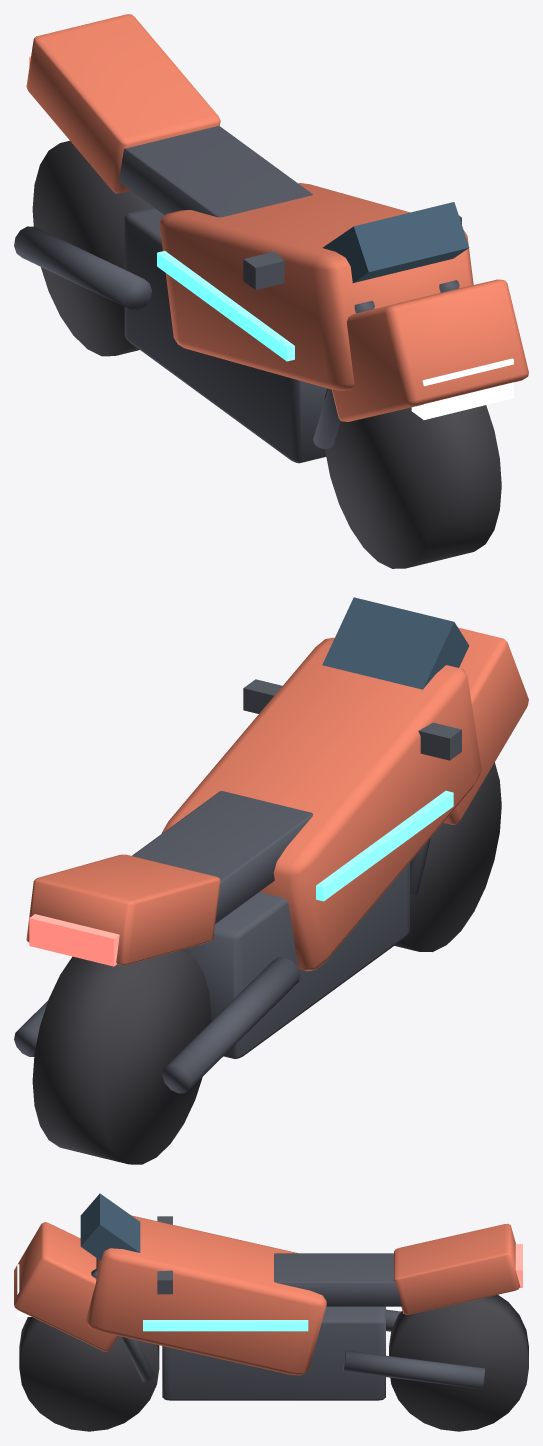
The model's file is superbike.glb.
The picture shows the model from 3 angles, top to bottom: view 1: azimuth 30°, elevation 25°; view 2: azimuth 150°, elevation 25°; view 3: azimuth 270°, elevation 25°; orthographic projection. The views are drawn at different scales.
Parts seen in each view (by area): view 1: FairingMain, Tire_-0.95, TailCowling, AeroNose, EngineBlock, Tire_0.95, Seat, Windscreen, ExhaustL, SideGlowL, Headlight, Handlebar (+1 smaller); view 2: FairingMain, Tire_0.95, EngineBlock, TailCowling, Seat, Tire_-0.95, Windscreen, AeroNose, ExhaustL, SideGlowL, Taillight, Handlebar (+1 smaller); view 3: FairingMain, Tire_0.95, EngineBlock, Tire_-0.95, TailCowling, AeroNose, Seat, ExhaustR, Windscreen, SideGlowR, ForkR, Handlebar (+1 smaller).
Part boxes in pixels (<box>): FairingMain: <box>159,183,473,390</box>; Tire_-0.95: <box>324,388,501,568</box>; TailCowling: <box>26,14,220,193</box>; AeroNose: <box>332,279,528,421</box>; EngineBlock: <box>124,207,327,463</box>; Tire_0.95: <box>32,140,152,356</box>; Seat: <box>119,125,312,217</box>; Windscreen: <box>322,202,469,282</box>; ExhaustL: <box>14,226,151,310</box>; SideGlowL: <box>157,251,294,361</box>; Headlight: <box>411,358,513,419</box>; Handlebar: <box>243,215,461,289</box>; FairingMain: <box>161,637,481,971</box>; Tire_0.95: <box>32,950,211,1164</box>; EngineBlock: <box>180,862,409,1058</box>; TailCowling: <box>26,854,220,965</box>; Seat: <box>132,791,313,923</box>; Tire_-0.95: <box>394,762,501,951</box>; Windscreen: <box>322,597,469,689</box>; AeroNose: <box>443,627,528,824</box>; ExhaustL: <box>162,957,300,1093</box>; SideGlowL: <box>316,790,453,901</box>; Taillight: <box>29,914,119,966</box>; Handlebar: <box>243,679,461,760</box>; FairingMain: <box>85,1215,326,1375</box>; Tire_0.95: <box>389,1294,528,1431</box>; EngineBlock: <box>162,1306,385,1400</box>; Tire_-0.95: <box>19,1317,159,1431</box>; TailCowling: <box>394,1223,520,1314</box>; AeroNose: <box>14,1222,118,1351</box>; Seat: <box>274,1253,401,1306</box>; ExhaustR: <box>343,1350,484,1389</box>; Windscreen: <box>80,1193,140,1260</box>; SideGlowR: <box>143,1320,308,1331</box>; ForkR: <box>91,1268,154,1381</box>; Handlebar: <box>157,1216,172,1294</box>.
Size of the model in its own units: 0.78 by 1.2 by 2.65.
